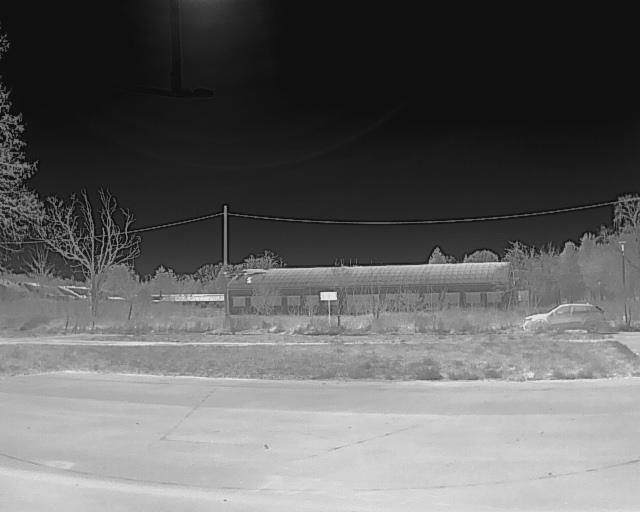drone: (220, 265, 271, 291)
